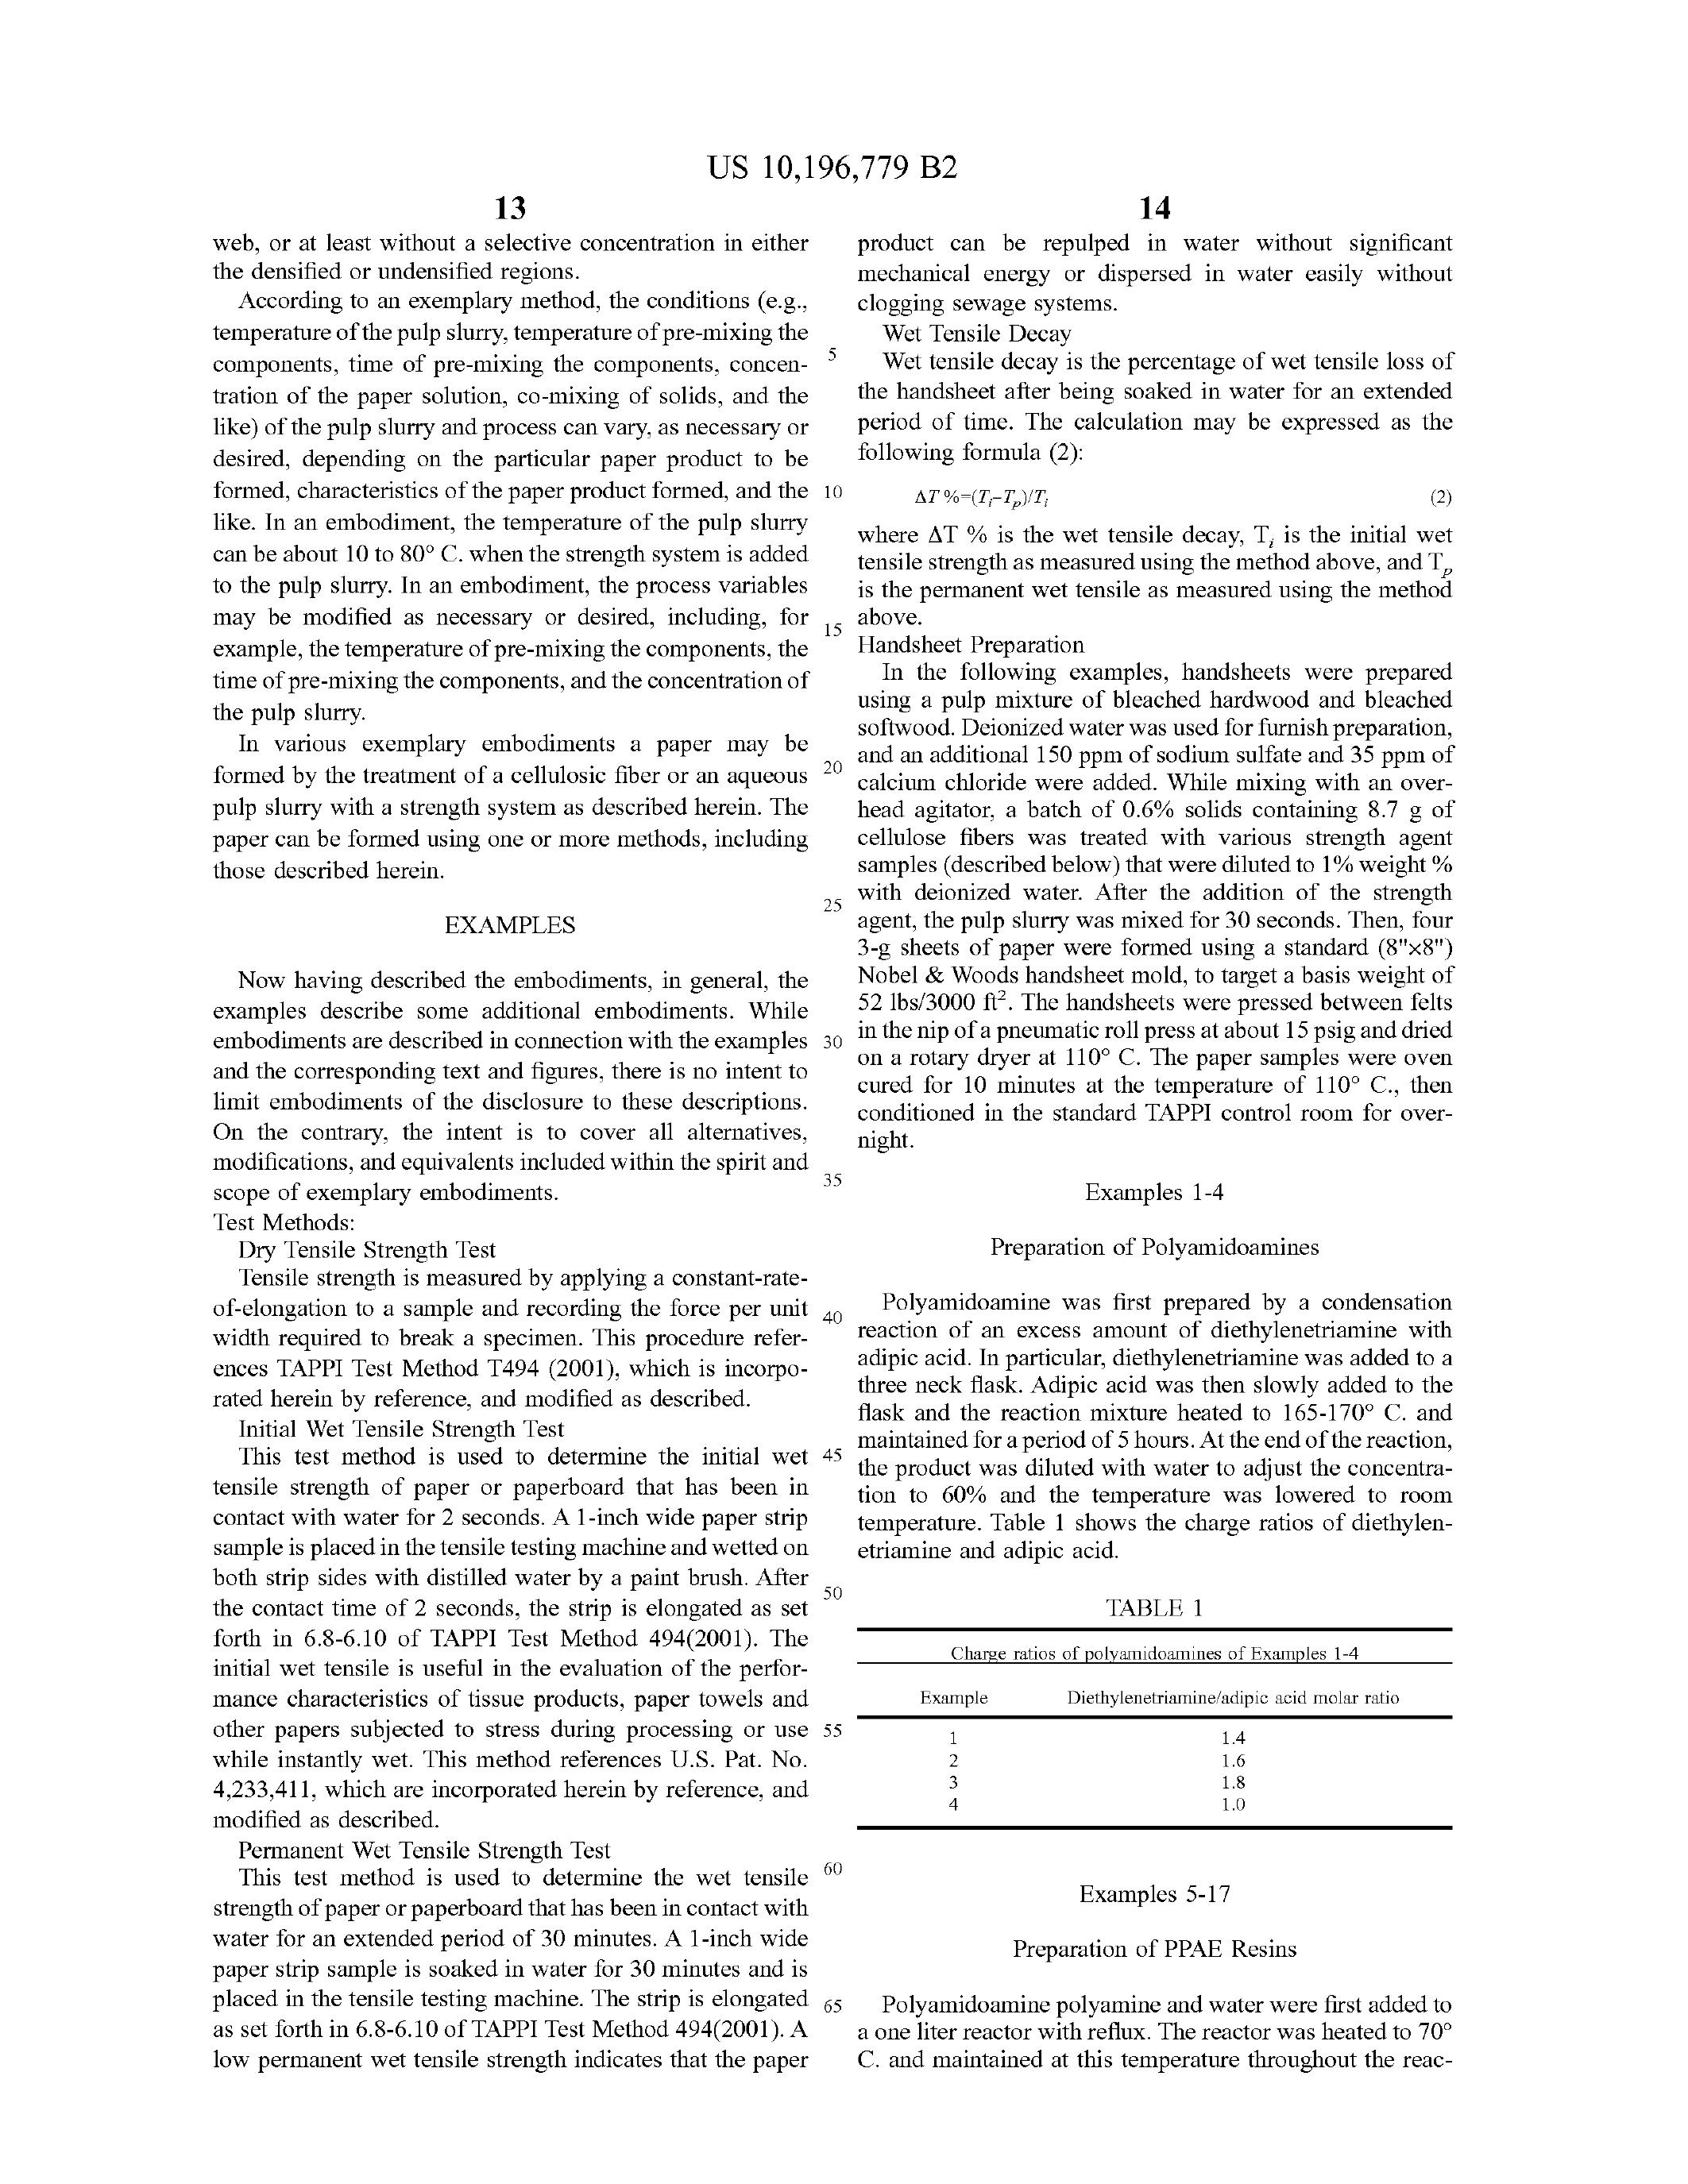reactions: (846, 1264, 1497, 1821)
